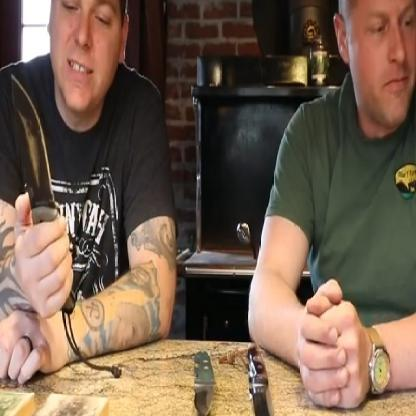knife: (4, 53, 80, 284)
